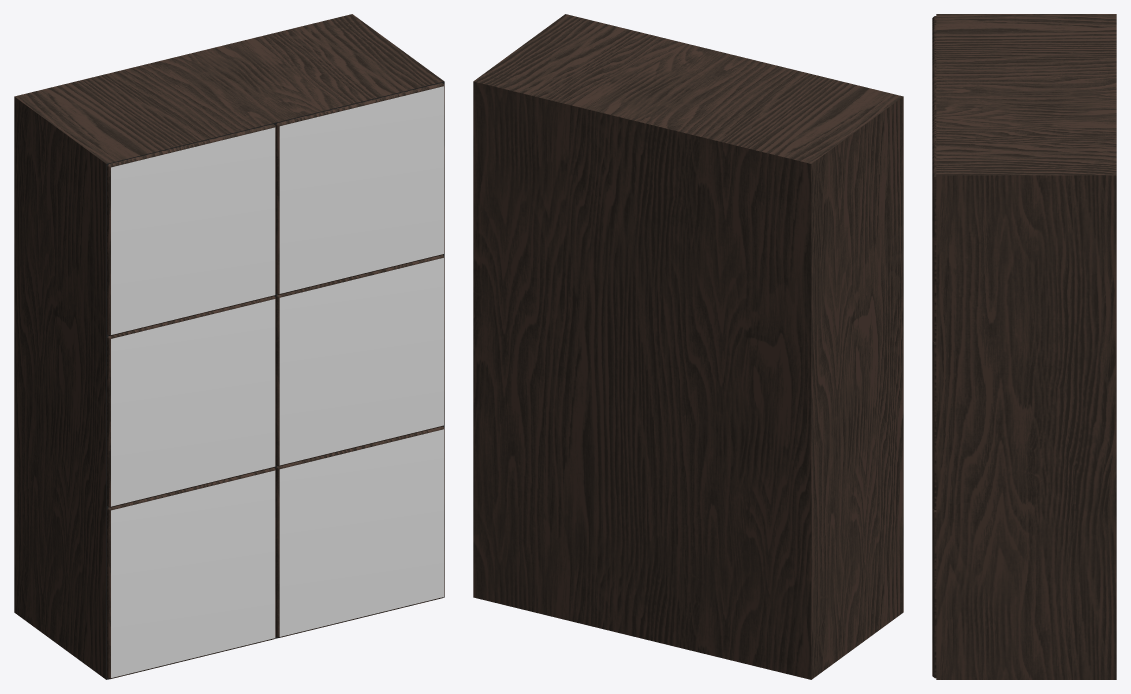
The model's file is cupboard_030.fbx.
The picture shows the model from 3 angles, left to right: view 1: azimuth 30°, elevation 25°; view 2: azimuth 150°, elevation 25°; view 3: azimuth 270°, elevation 25°; orthographic projection. The views are drawn at different scales.
Parts seen in each view (by area): view 1: cupboard_030; view 2: cupboard_030; view 3: cupboard_030.
Boxes of the visible parts, x1,y1,x2,y2 form: cupboard_030: [14, 14, 444, 679]; cupboard_030: [473, 14, 903, 679]; cupboard_030: [932, 14, 1116, 679].
Bounding box in the file's own units: 192 × 92.64 × 280.
